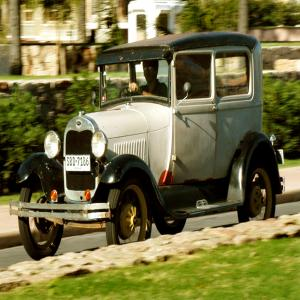Vehicle-registration-plate: (66, 155, 92, 173)
